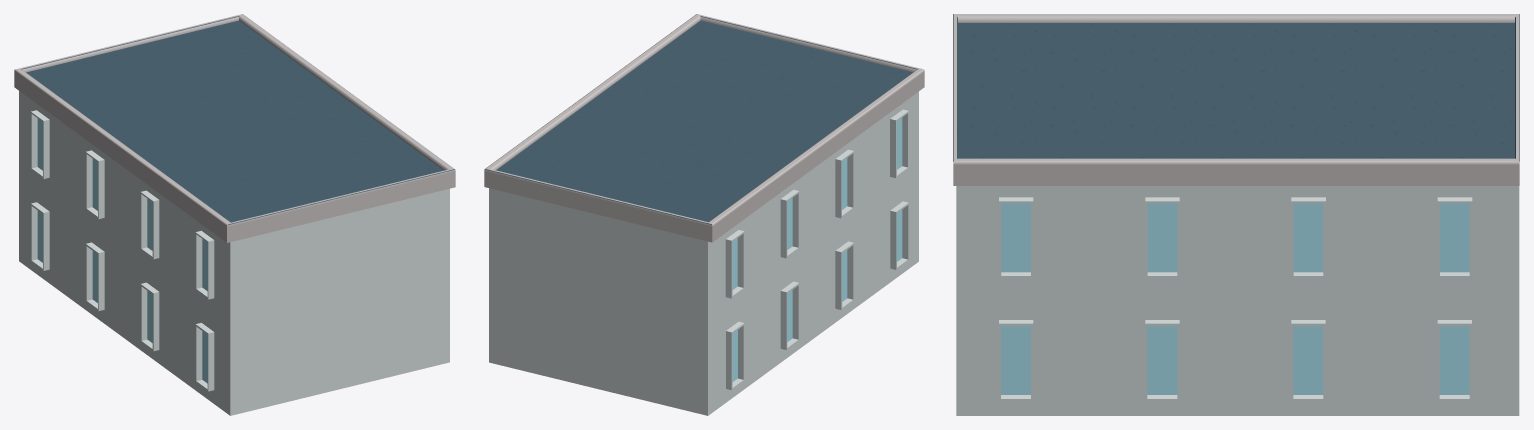
The model's file is Skyscraper 2.fbx.
3 views of the same model, side by side, from view 1: azimuth 30°, elevation 25°; view 2: azimuth 150°, elevation 25°; view 3: azimuth 270°, elevation 25° (orthographic). The views are drawn at different scales.
Parts seen in each view (by area): view 1: BottomGround, TopGround; view 2: BottomGround, TopGround; view 3: BottomGround, TopGround.
Part boxes in pixels (x1,y1,x2,y2): BottomGround: [19, 91, 449, 415]; TopGround: [14, 14, 455, 242]; BottomGround: [489, 91, 918, 415]; TopGround: [484, 14, 924, 242]; BottomGround: [956, 186, 1519, 415]; TopGround: [953, 14, 1519, 185].
Bounding box in the file's own units: 33.45 × 26.65 × 53.25.
